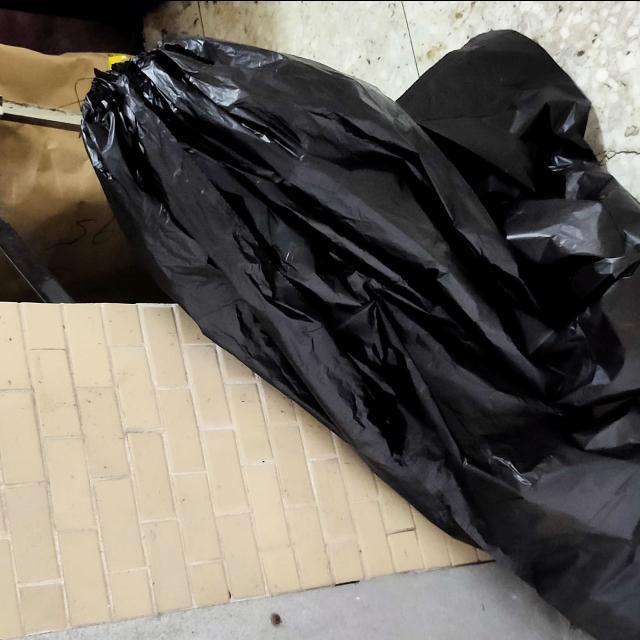Trashbag: (70, 14, 640, 640)
